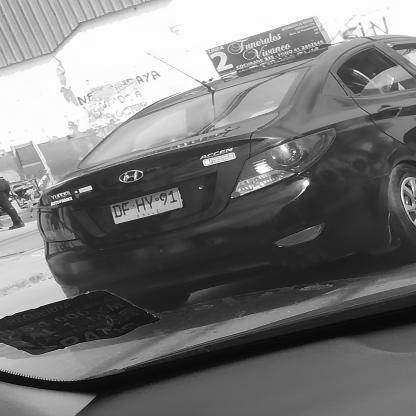Patente: (107, 185, 187, 227)
